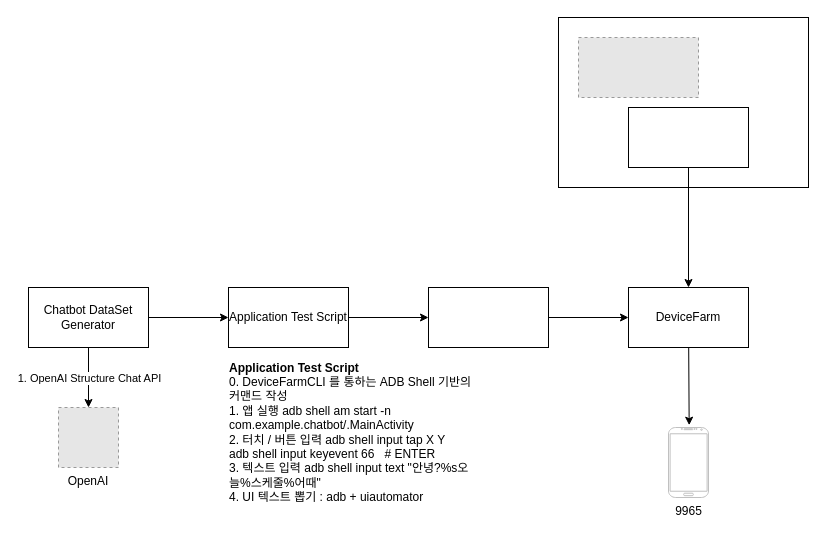
Some shapes in this 826 by 536 pixel diagram are drawn without their labels. Grey dashed boxes stand in for pictures. Each missing label, with the centre of its shape:
DeviceFarmCLI: the point at 488,317
Warming Up (APK, Model) Fusing Script (Only 9965): the point at 688,137
